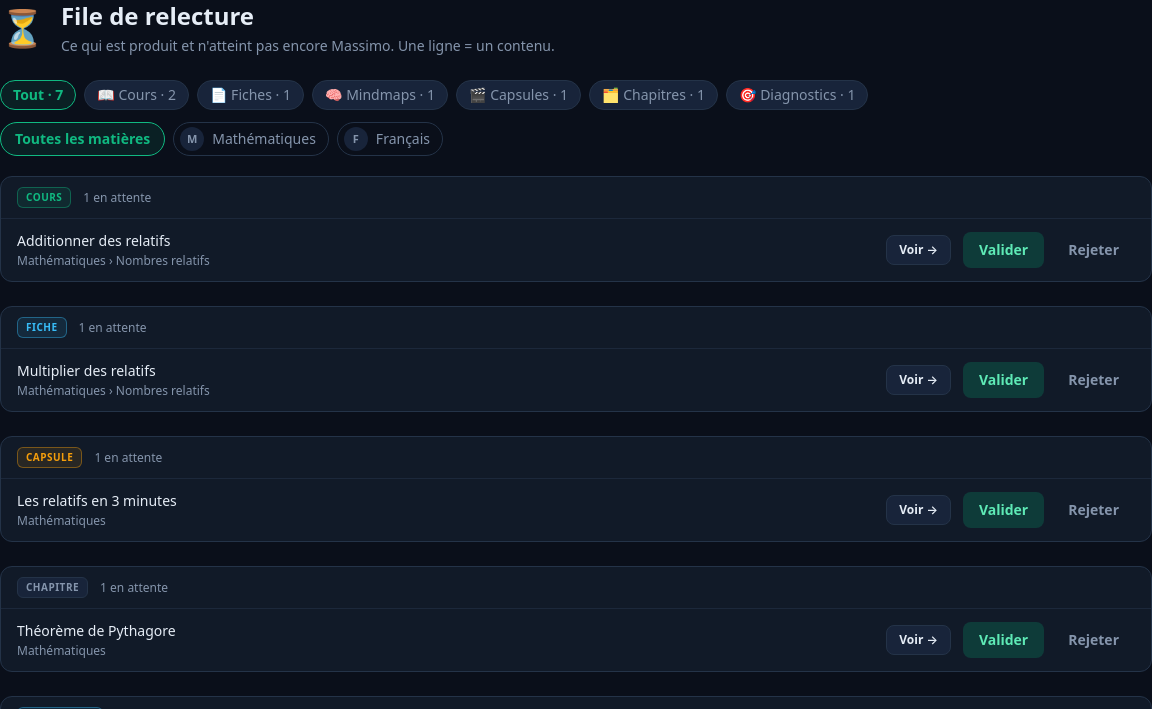
Test case: RelecturePage › valider retire la ligne sans recharger la file
The width and height of the screenshot is (1152, 709).
Expected: the text "Multiplier des relatifs" is shown, [17,361,156,380]
Click the button "Valider" in the row of "Multiplier des relatifs" at (1004, 380), box [963,362,1044,398]
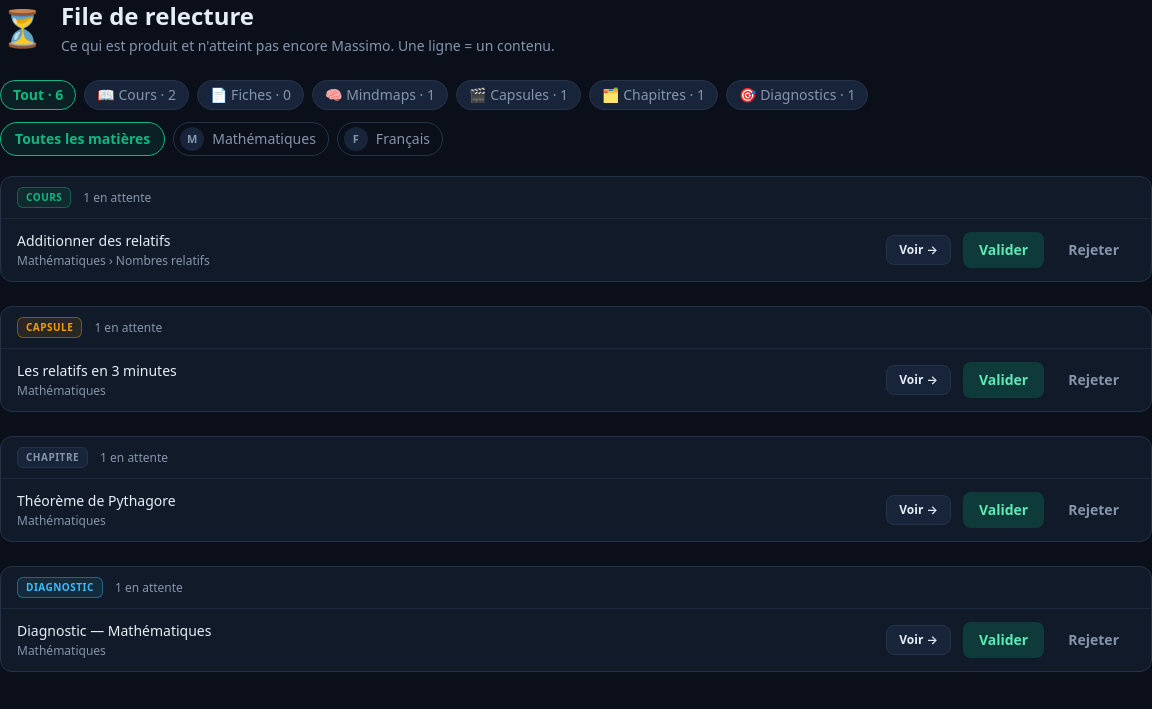
Expected: the text "Additionner des relatifs" is shown, [17,231,170,250]
Expected: the text "Multiplier des relatifs" is gone
